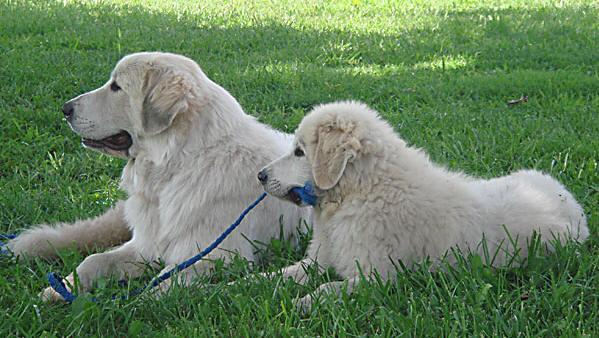Great_Pyrenees: (0, 45, 315, 307), (257, 99, 592, 311)
